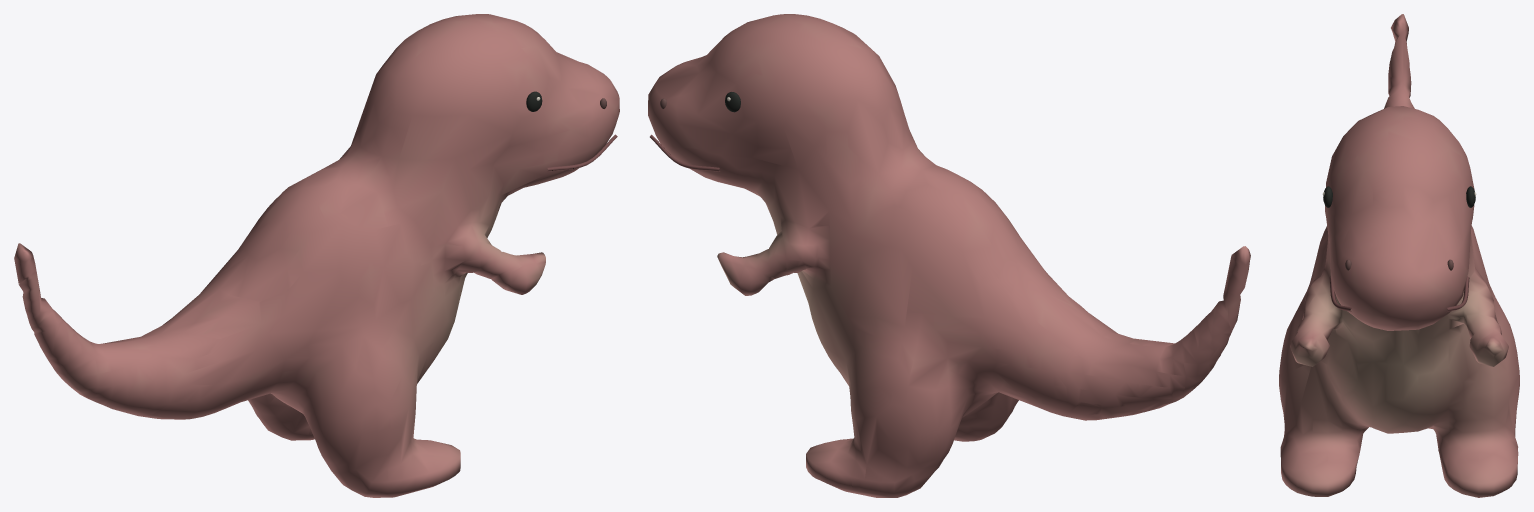
The model's file is tyrannosaurus.glb.
3 views of the same model, side by side, from view 1: azimuth 30°, elevation 25°; view 2: azimuth 150°, elevation 25°; view 3: azimuth 270°, elevation 25° (orthographic).
Parts seen in each view (by area): view 1: clay-toy; view 2: clay-toy; view 3: clay-toy.
Part boxes in pixels (x1=…): clay-toy: x1=14, y1=14, x2=619, y2=497; clay-toy: x1=648, y1=14, x2=1250, y2=497; clay-toy: x1=1279, y1=14, x2=1519, y2=497.
Size of the model in its own units: 3.69 by 2.45 by 1.28.
